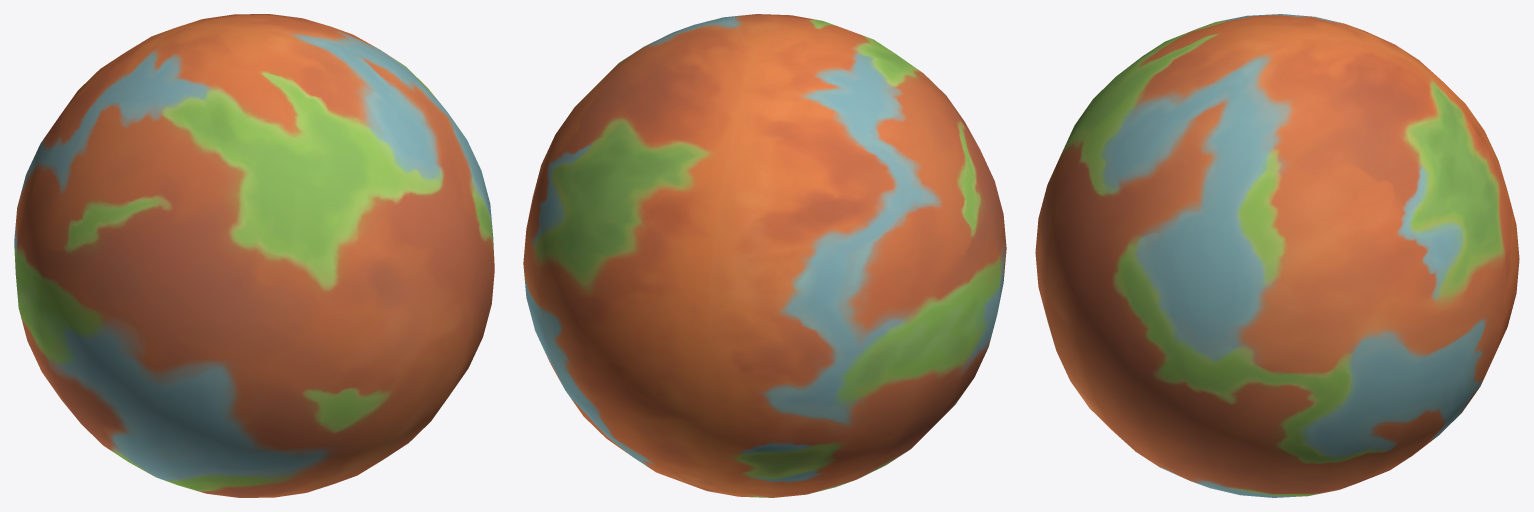
File: ModelWakusei_Mars.fbx
The picture shows the model from 3 angles, left to right: view 1: azimuth 30°, elevation 25°; view 2: azimuth 150°, elevation 25°; view 3: azimuth 270°, elevation 25°; orthographic projection.
Visible parts, largest first — view 1: Kasei; view 2: Kasei; view 3: Kasei.
Boxes of the visible parts, x1,y1,x2,y2 form: Kasei: (14, 14, 494, 497); Kasei: (523, 14, 1006, 497); Kasei: (1035, 14, 1519, 497).
Bounding box in the file's own units: 6 × 6 × 6.
Materials: 1 (1 with a texture image).
